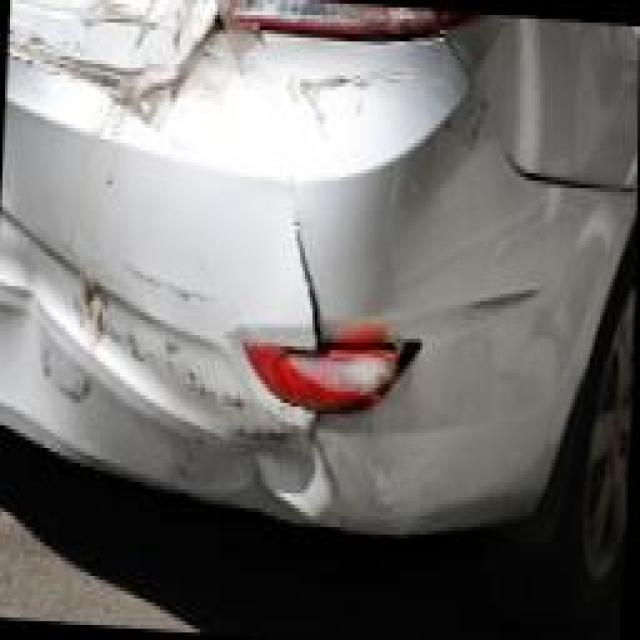Bumper: (0, 0, 638, 572)
